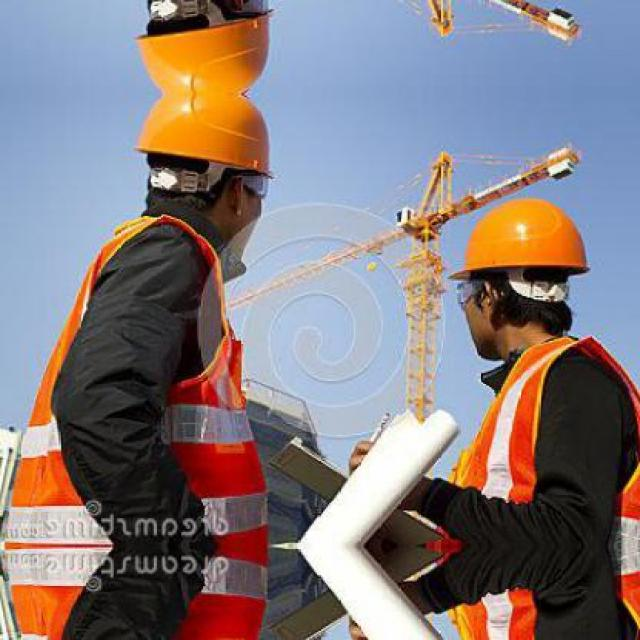Reflective-Jacket: (5, 211, 263, 512), (432, 328, 638, 638)
Safety-Helmet: (126, 95, 285, 184), (445, 194, 597, 287)
